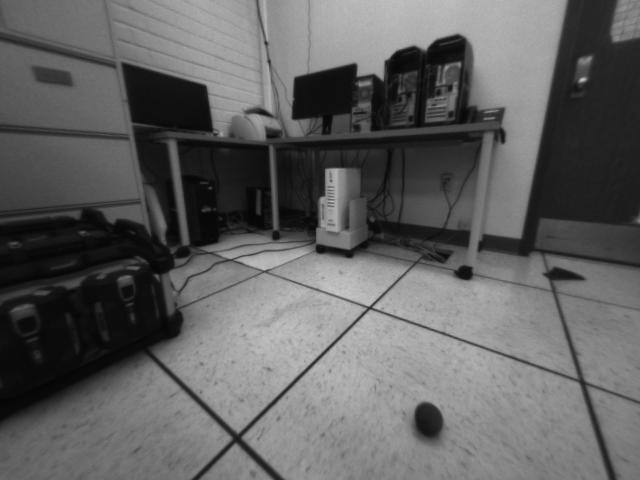dogtoy: (405, 393, 452, 445)
